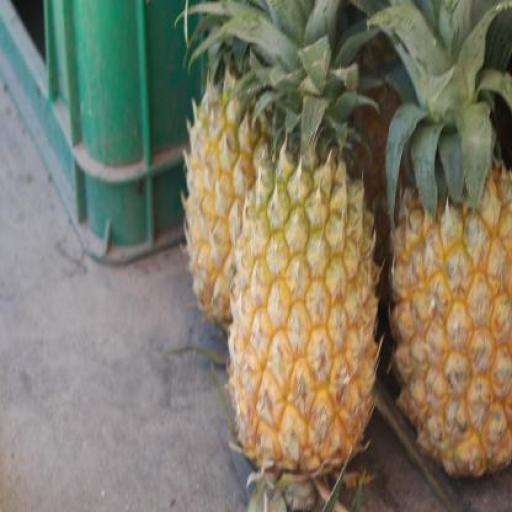Pineapple - v8 v1: (230, 164, 374, 481), (391, 161, 511, 484), (189, 80, 284, 330)
